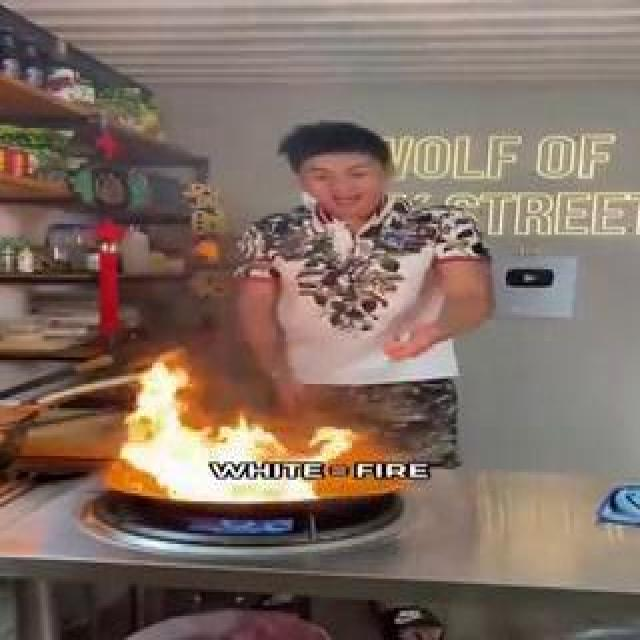Fire: (233, 286, 390, 362)
